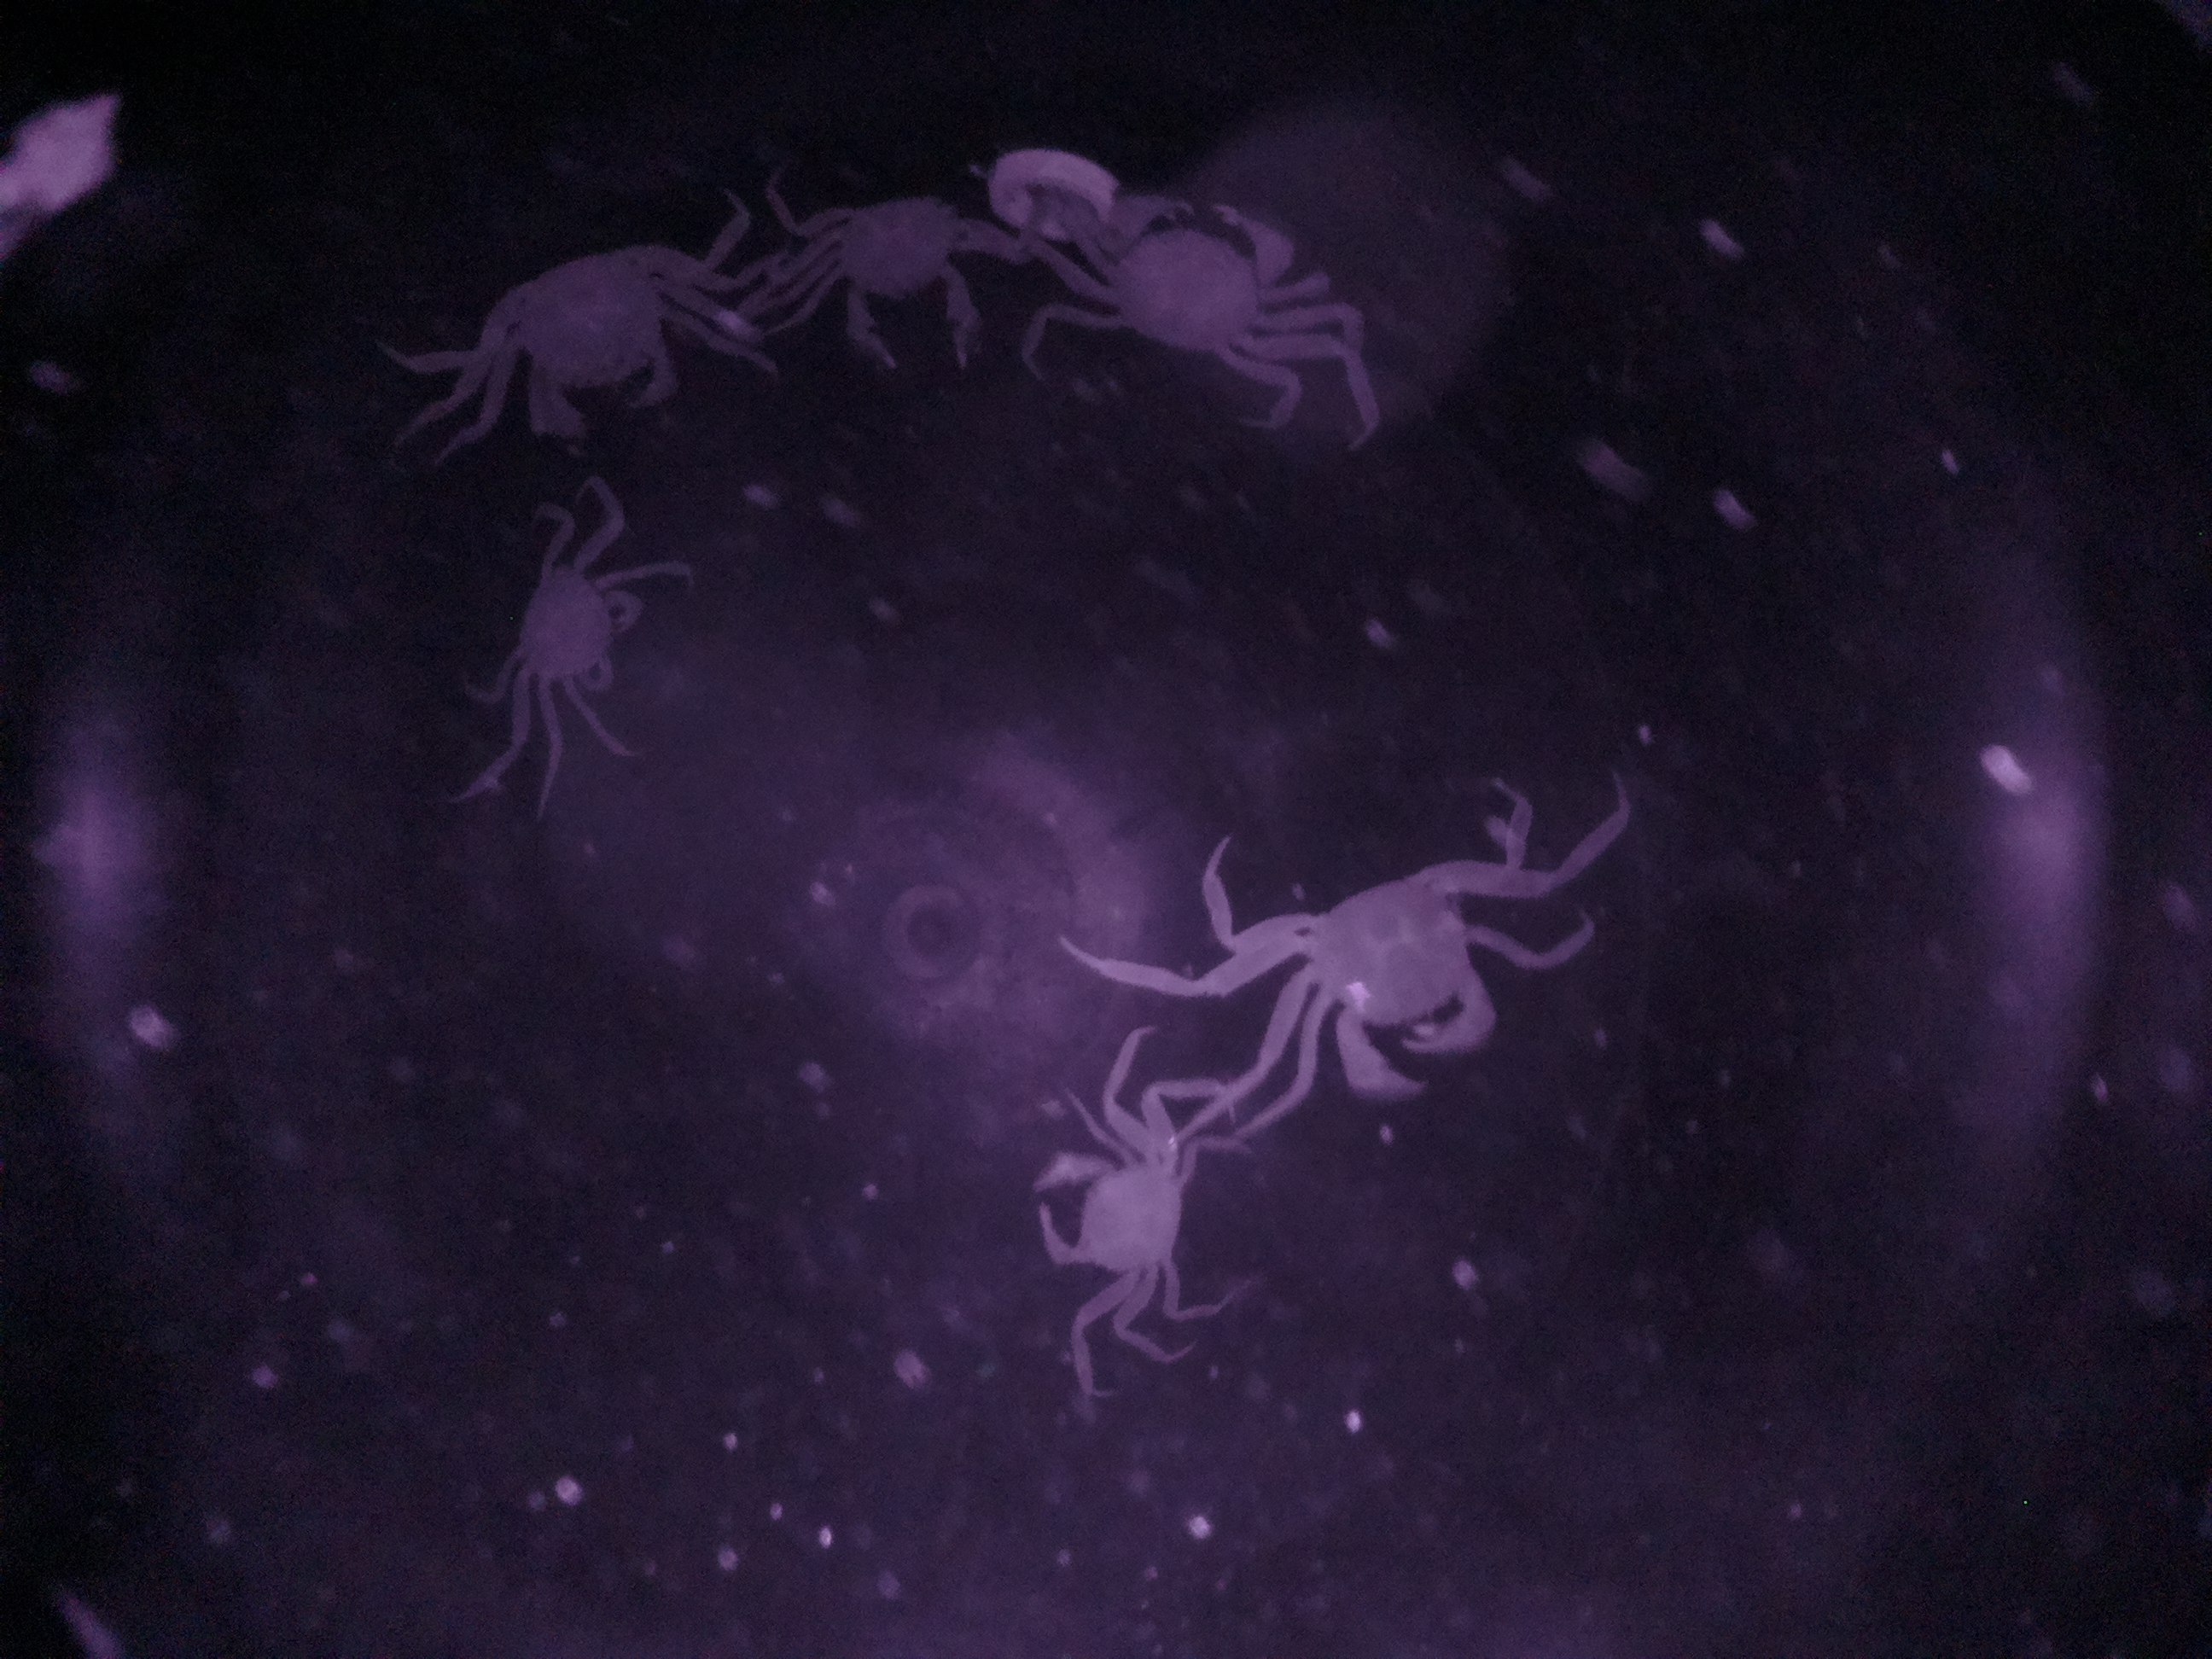Crab: (1249, 842, 1545, 1119), (470, 228, 721, 455), (1071, 179, 1308, 397), (798, 183, 1007, 394), (1021, 1101, 1209, 1316), (496, 537, 655, 709)
